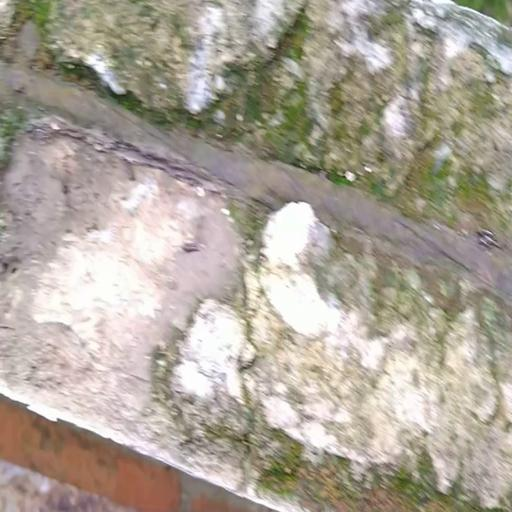spalling: (2, 0, 512, 512)
